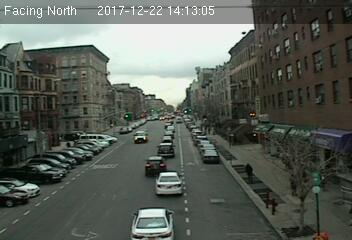car: (130, 205, 174, 240), (155, 170, 185, 195), (145, 155, 166, 177), (157, 142, 174, 158), (201, 148, 219, 163), (160, 135, 172, 142)
pedestrian: (244, 158, 256, 183)
truck: (133, 130, 148, 143)
